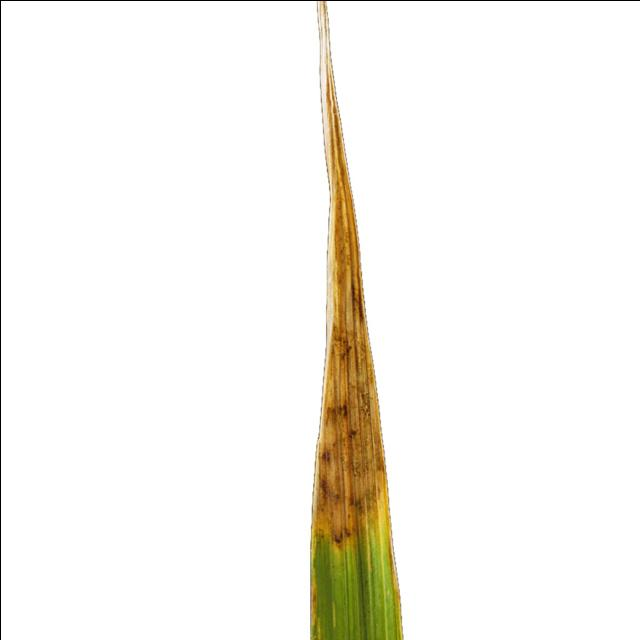Leaf scald: (229, 0, 473, 640)
